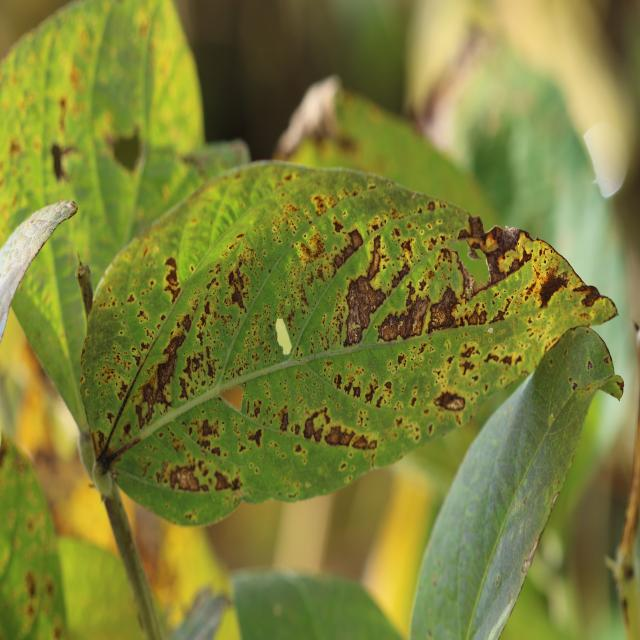Bacterial_Blight: (465, 224, 527, 290), (337, 272, 387, 341), (153, 331, 187, 403), (94, 436, 142, 475), (330, 226, 363, 273), (426, 289, 460, 334), (50, 141, 84, 183), (75, 251, 94, 320), (168, 464, 205, 492), (227, 266, 249, 313), (481, 348, 524, 372), (180, 149, 213, 178), (163, 256, 183, 303), (302, 411, 327, 442), (433, 390, 467, 412), (213, 468, 243, 492), (580, 285, 607, 308), (306, 231, 328, 259), (89, 427, 104, 463), (462, 214, 485, 237), (56, 95, 69, 135), (24, 570, 38, 601), (199, 417, 219, 438), (351, 433, 372, 450), (364, 382, 379, 405), (8, 137, 22, 160), (246, 427, 262, 447), (459, 358, 476, 376), (279, 408, 290, 432), (466, 246, 481, 260), (622, 565, 635, 581), (550, 491, 560, 510), (126, 293, 135, 304), (603, 355, 610, 365), (587, 360, 593, 370), (522, 496, 528, 506), (572, 381, 578, 391)
Soybean: (80, 163, 617, 525)
